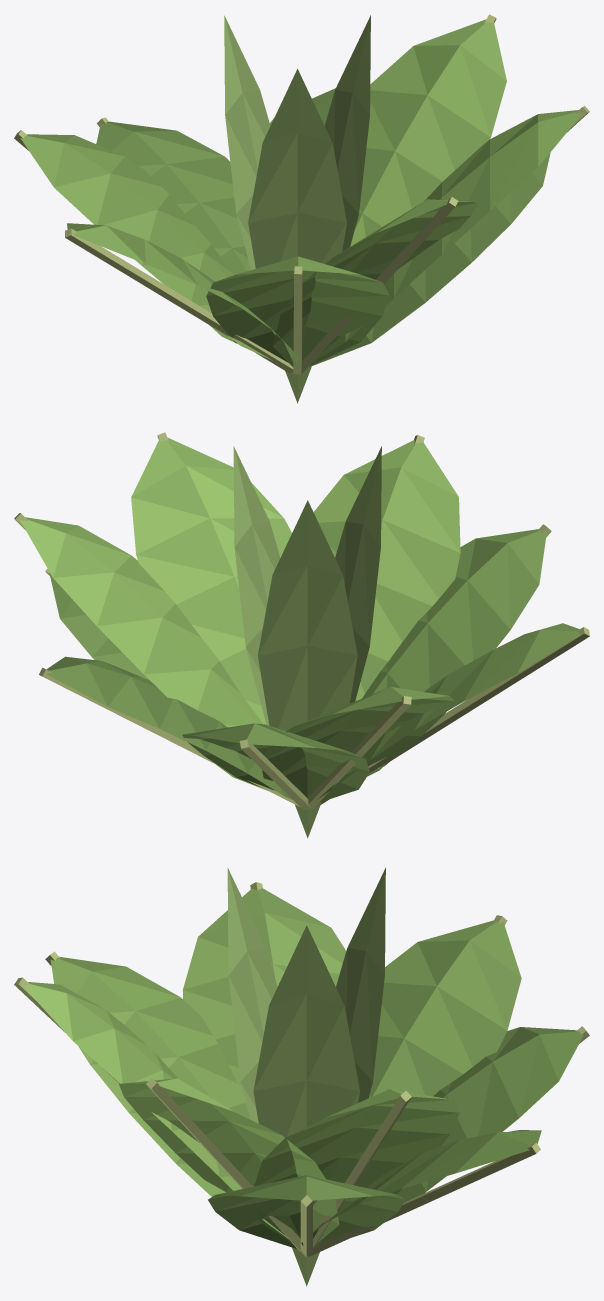
Rendered from wild_greens.glb.
3 renders of one model, top to bottom at view 1: azimuth 30°, elevation 25°; view 2: azimuth 150°, elevation 25°; view 3: azimuth 270°, elevation 25°, orthographic. The views are drawn at different scales.
Parts seen in each view (by area): view 1: wild_greens; view 2: wild_greens; view 3: wild_greens.
Boxes of the visible parts, <box> form: wild_greens: <box>14,14,589,403</box>; wild_greens: <box>14,432,589,838</box>; wild_greens: <box>14,867,589,1286</box>.
Bounding box in the file's own units: 0.4215 × 0.29 × 0.3782.
